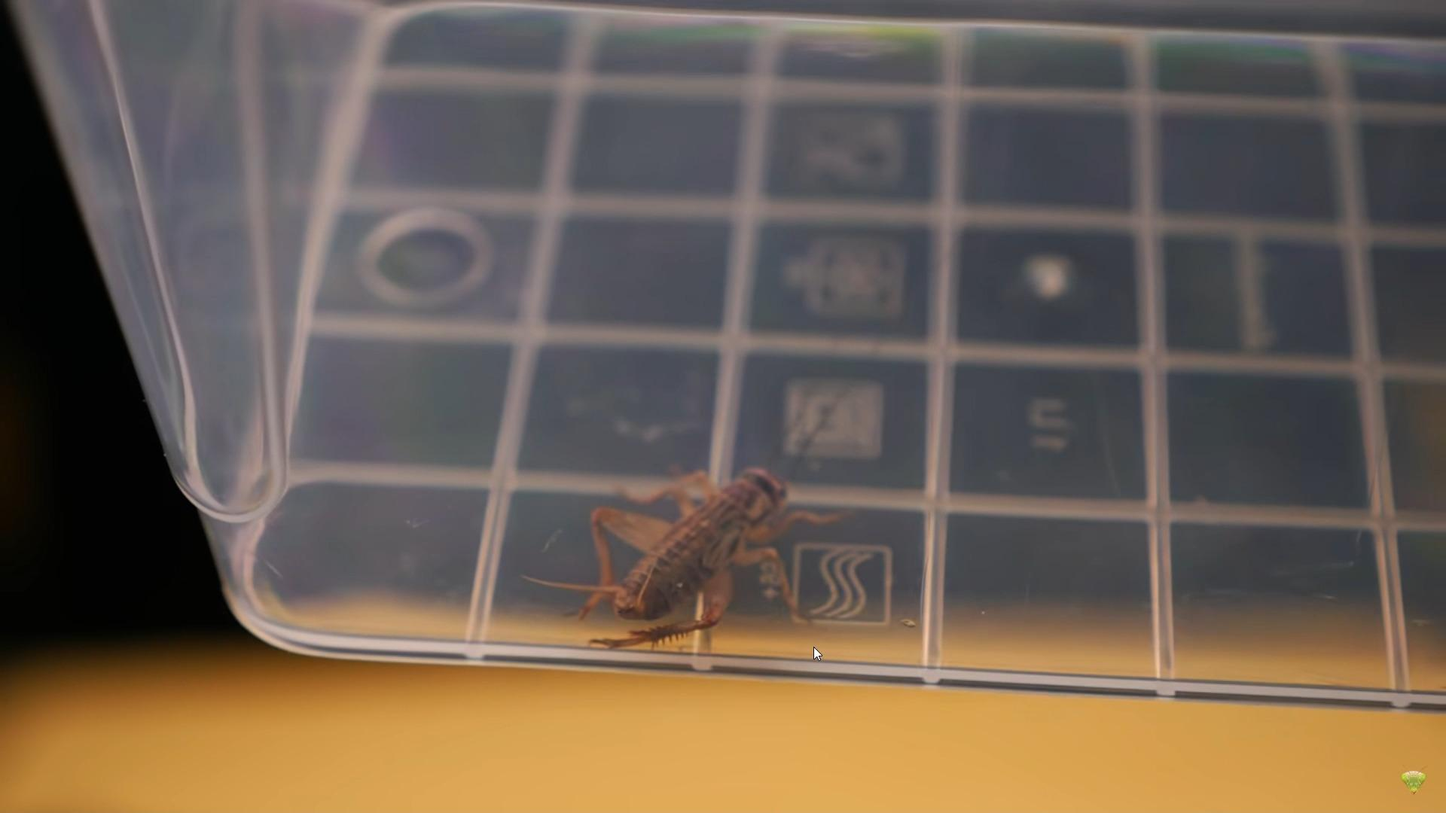cockroach: (544, 452, 858, 653)
